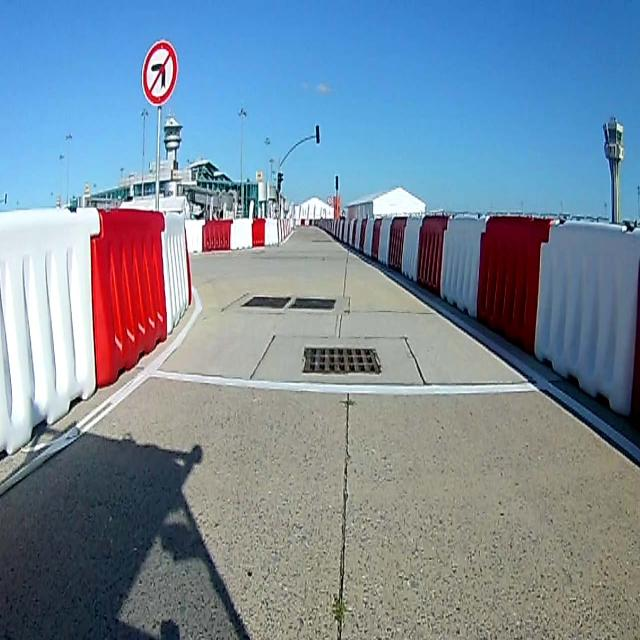soladonulmez: (137, 34, 179, 108)
